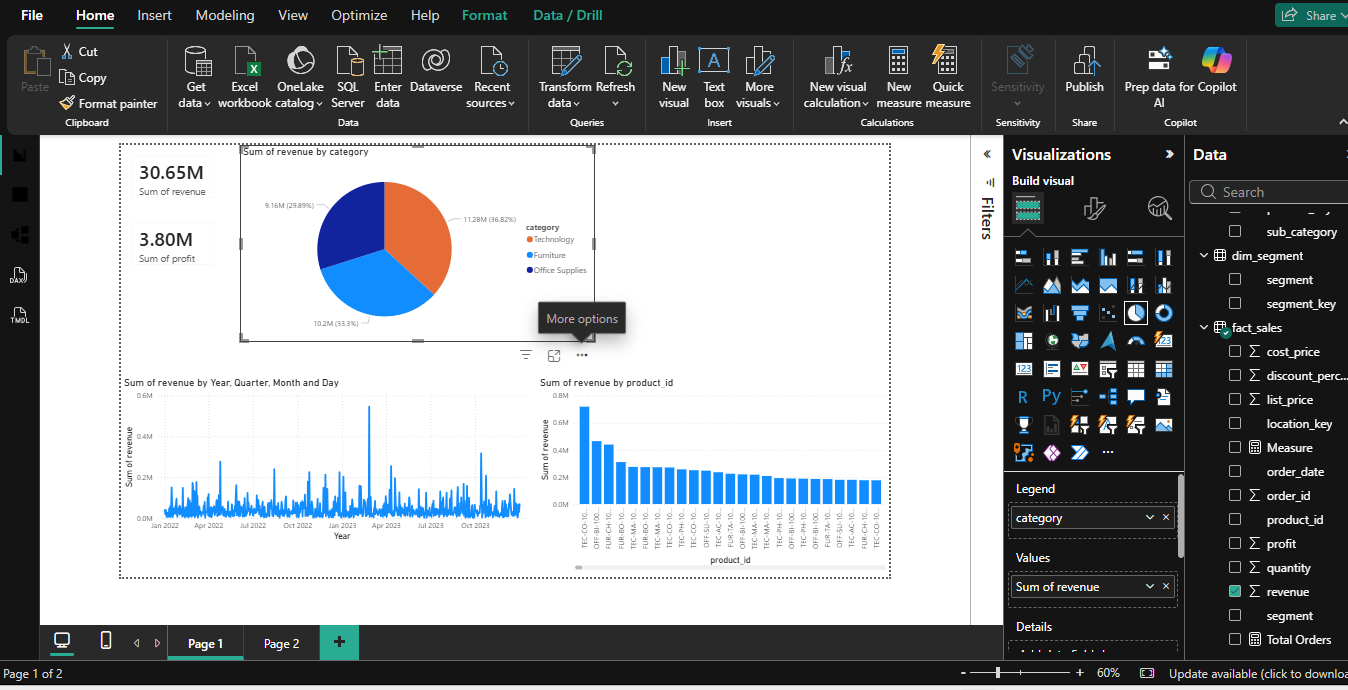

The page's visual inventory and layout, read from the dashboard file:
{"tool":"powerbi","page":{"name":"Page 1","canvas":[1280,720],"ordinal":0},"visuals":[{"type":"cardVisual","fields":{"Data":["Sum(fact_sales.revenue)"]},"box":[0,10,193.3,128.3],"z":0},{"type":"cardVisual","fields":{"Data":["Sum(fact_sales.profit)"]},"box":[0,171.7,193.3,113.3],"z":1000},{"type":"lineChart","fields":{"Y":["Sum(fact_sales.revenue)"],"Category":["dim_date.order_date.Variation.Date Hierarchy.Year","dim_date.order_date.Variation.Date Hierarchy.Quarter","dim_date.order_date.Variation.Date Hierarchy.Month","dim_date.order_date.Variation.Date Hierarchy.Day"]},"box":[0,385,693.3,328.3],"z":2000},{"type":"clusteredColumnChart","fields":{"Category":["dim_product.product_id"],"Y":["Sum(fact_sales.revenue)"]},"box":[693.3,385,586.7,328.3],"z":3000},{"type":"pieChart","fields":{"Category":["dim_product.category"],"Y":["Sum(fact_sales.revenue)"]},"box":[688.3,0,591.7,328.3],"z":4000},{"type":"cardVisual","fields":{"Data":["Sum(fact_sales.order_id)"]},"box":[266.7,150,206.7,148.3],"z":5000},{"type":"cardVisual","fields":{"Data":["dim_date.Average Order Value"]},"box":[266.7,0,226.7,150],"z":6000}]}

Visuals, with their boxes on the page's 1280x720 design canvas (x1, y1, x2, y2). These are canvas units, not pixel positions in the 1348x690 screenshot, which may show the page scaled, cropped or inside an application window:
cardVisual - Sum(fact_sales.revenue): select_region(0, 10, 193, 138)
cardVisual - Sum(fact_sales.profit): select_region(0, 172, 193, 285)
lineChart - Sum(fact_sales.revenue) x dim_date.order_date.Variation.Date Hierarchy.Year: select_region(0, 385, 693, 713)
clusteredColumnChart - dim_product.product_id x Sum(fact_sales.revenue): select_region(693, 385, 1280, 713)
pieChart - dim_product.category x Sum(fact_sales.revenue): select_region(688, 0, 1280, 328)
cardVisual - Sum(fact_sales.order_id): select_region(267, 150, 473, 298)
cardVisual - dim_date.Average Order Value: select_region(267, 0, 493, 150)
